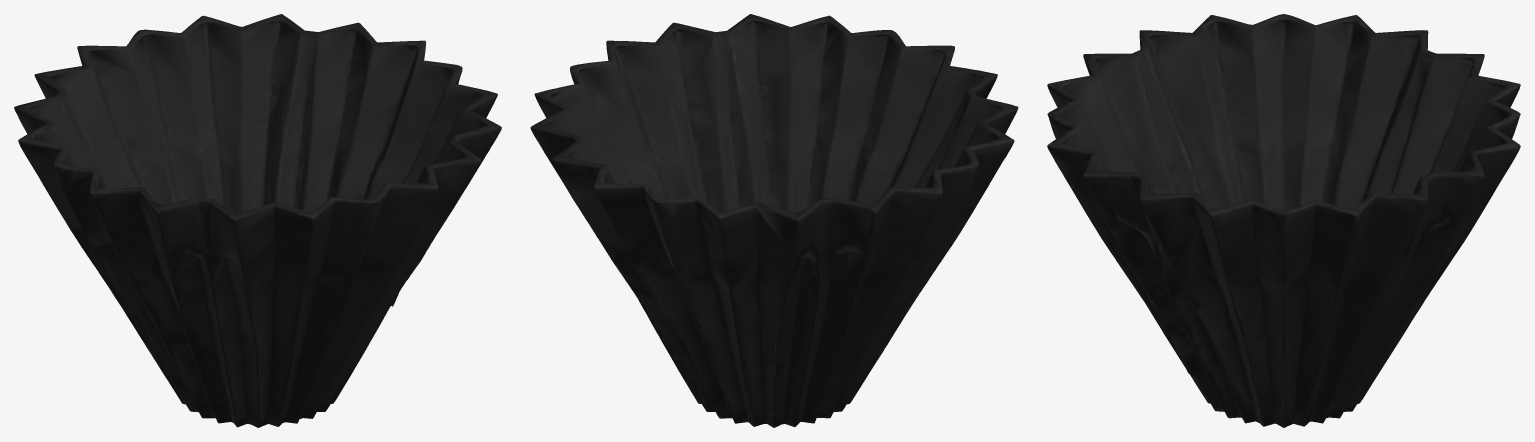
File: dripper.glb
3 renders of one model, left to right at view 1: azimuth 30°, elevation 25°; view 2: azimuth 150°, elevation 25°; view 3: azimuth 270°, elevation 25°, orthographic.
Parts seen in each view (by area): view 1: Mesh_0; view 2: Mesh_0; view 3: Mesh_0.
Part boxes in pixels (x1,y1,x2,y2): Mesh_0: (14,14,501,427); Mesh_0: (530,14,1018,427); Mesh_0: (1047,14,1520,427).
Size of the model in its own units: 1.9 by 1.24 by 1.9.
Materials: 1 (1 with a texture image).
